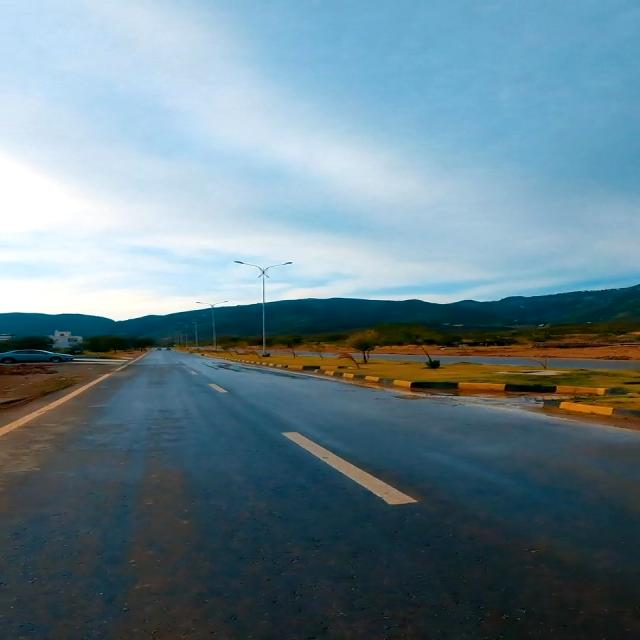lane: (0, 351, 149, 435), (282, 432, 416, 504), (0, 373, 111, 435)
road: (2, 351, 636, 639), (282, 432, 416, 504)
